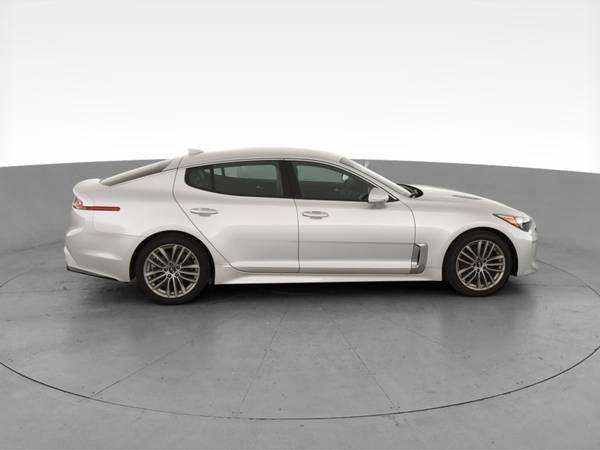Front_Bumper: (504, 230, 538, 277)
Front_Fender: (407, 205, 516, 282)
Front_Right_Door: (293, 200, 413, 282)
Front_Right_Window: (286, 157, 399, 200)
Hood: (402, 181, 526, 214)
Rear_Bumper: (67, 207, 149, 280)
Rear_Fender: (81, 181, 190, 235)
Rear_Right_Door: (173, 182, 297, 282)
Rear_Right_Window: (175, 158, 295, 197)
Right_Headlight: (497, 213, 538, 232)
Roof: (113, 145, 404, 198)
Wheel: (133, 232, 215, 306), (446, 233, 513, 299)
